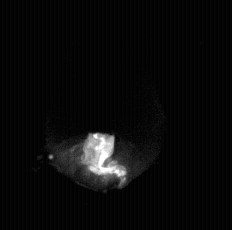arame: (90, 0, 117, 136)
poca: (46, 0, 162, 230)
